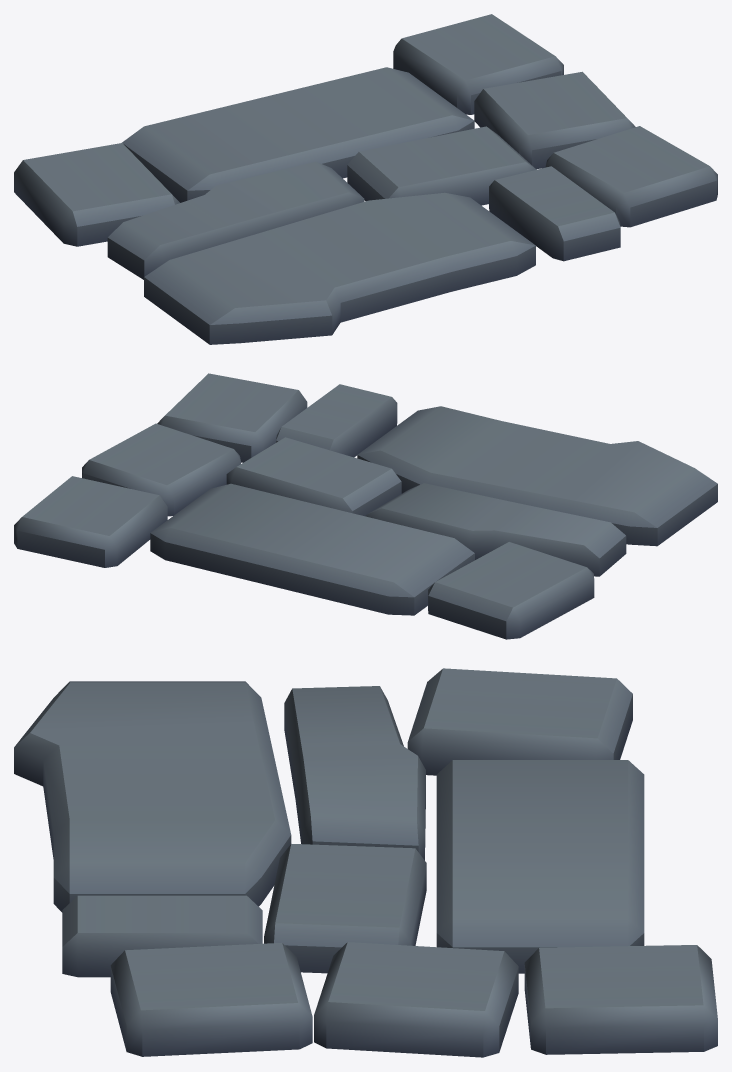
3 views of the same model, one above another, from view 1: azimuth 30°, elevation 25°; view 2: azimuth 150°, elevation 25°; view 3: azimuth 270°, elevation 25° (orthographic). The views are drawn at different scales.
Visible parts, largest first — view 1: Cube_7; view 2: Cube_7; view 3: Cube_7.
Part boxes in pixels (<box>): Cube_7: <box>14,14,717,344</box>; Cube_7: <box>14,373,717,639</box>; Cube_7: <box>14,668,717,1057</box>.
Size of the model in its own units: 76.88 by 4.16 by 64.67.
